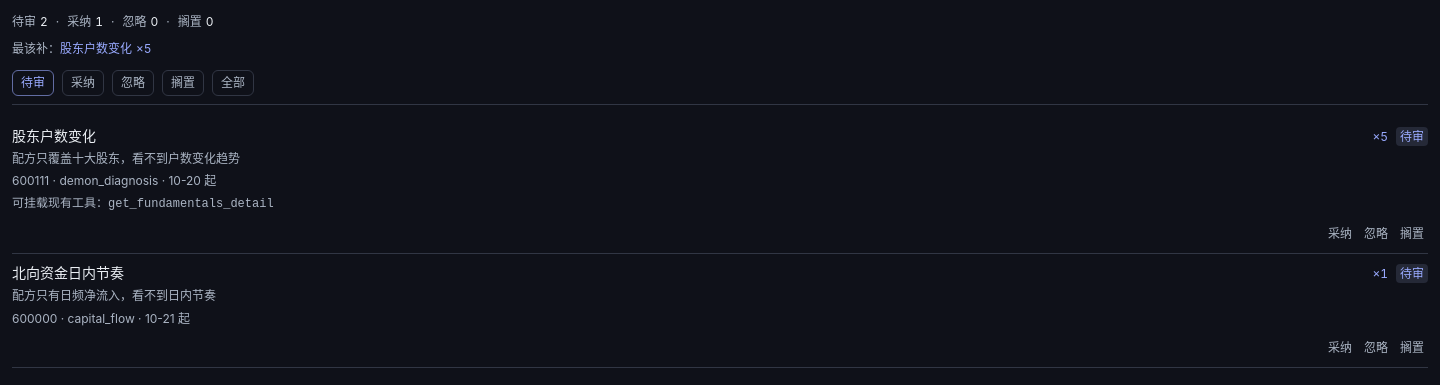
Test: ProposalPanel › 采纳：POST {action:"accept"} + 出现「配方仍需人工修改」提示 + 该行离开待审
Expected: the number of list items with test id "proposal-row" is 2, [12, 117, 1428, 254]; [12, 254, 1428, 368]
Click the 1st button with test id "proposal-action-accept" at (1340, 233), box [1324, 222, 1356, 245]
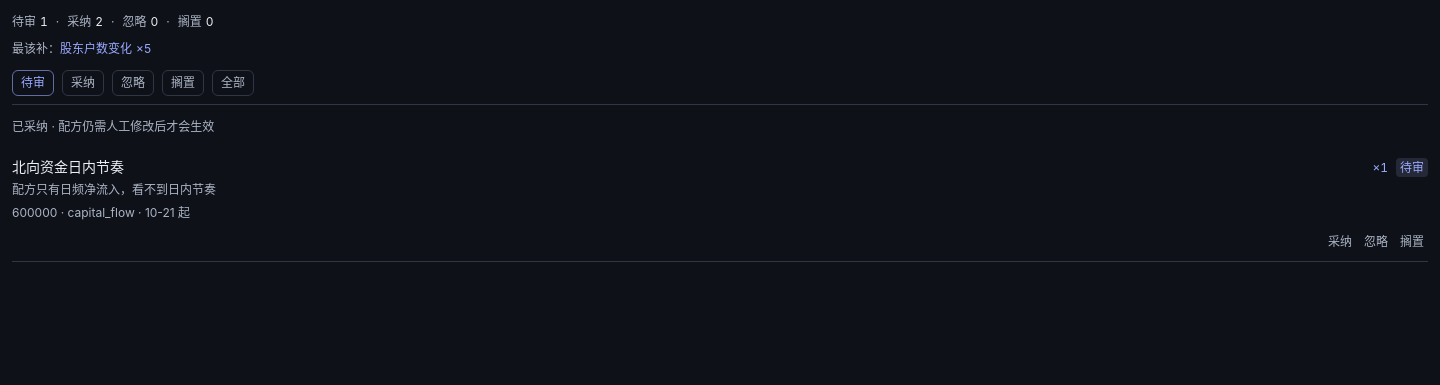
Expected: the element with test id "proposal-dimension" does not show "股东户数变化"
Result: the message with test id "proposal-accept-note" reads "已采纳 · 配方仍需人工修改后才会生效" at [12, 119, 214, 134]
Result: the number of list items with test id "proposal-row" is 1 at [12, 148, 1428, 262]
